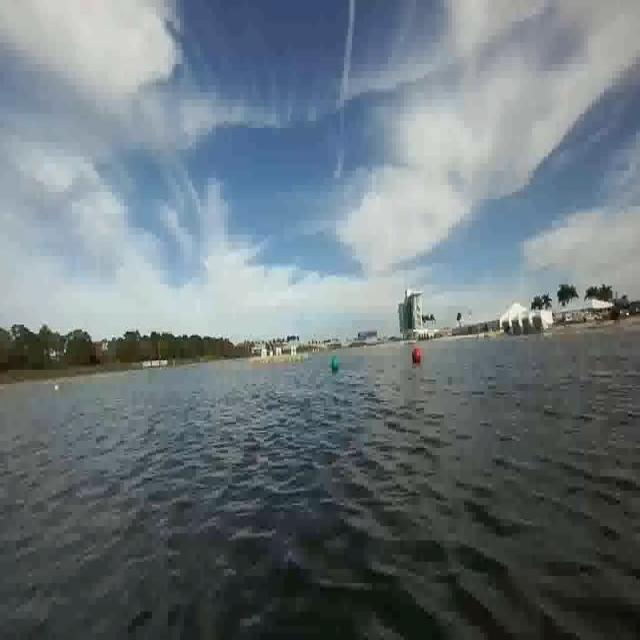green-buoy: (329, 354, 339, 373)
red-buoy: (411, 346, 423, 365)
